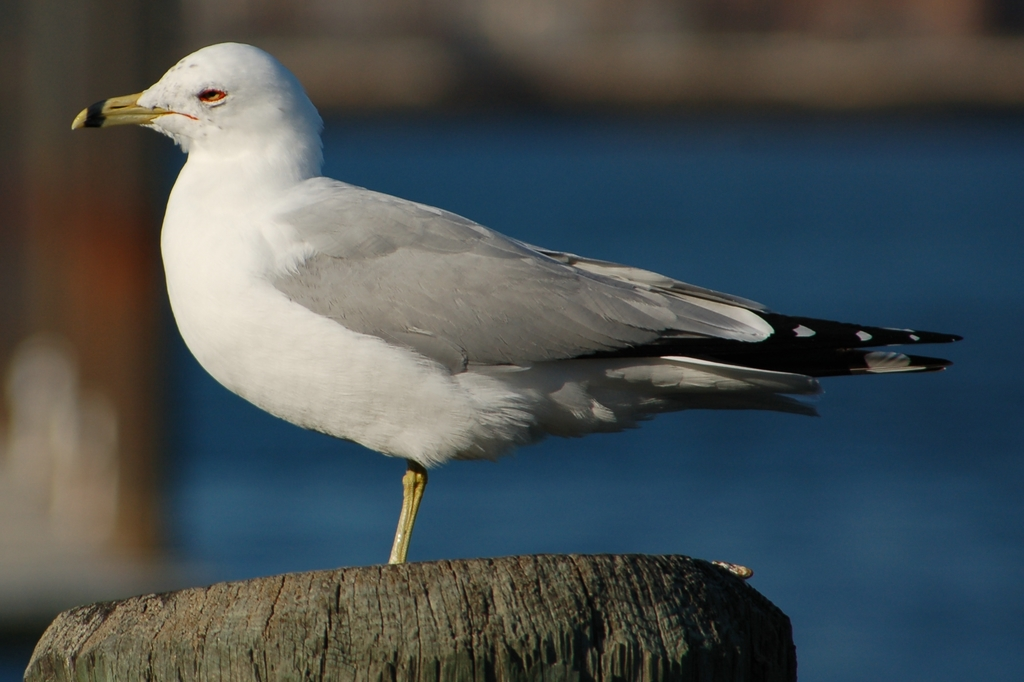Bird: (71, 42, 964, 579)
